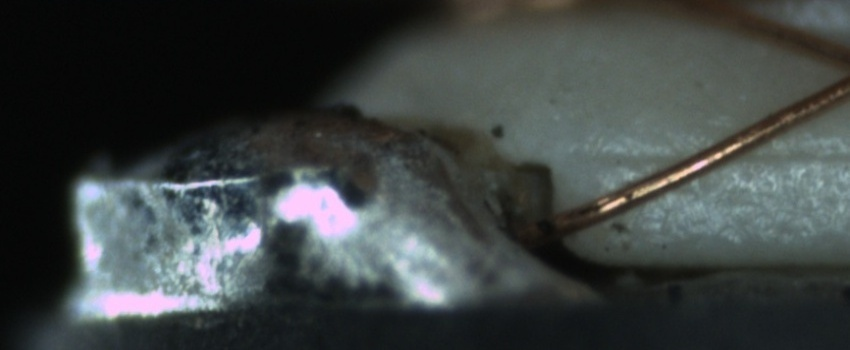DL: (602, 121, 847, 190)
